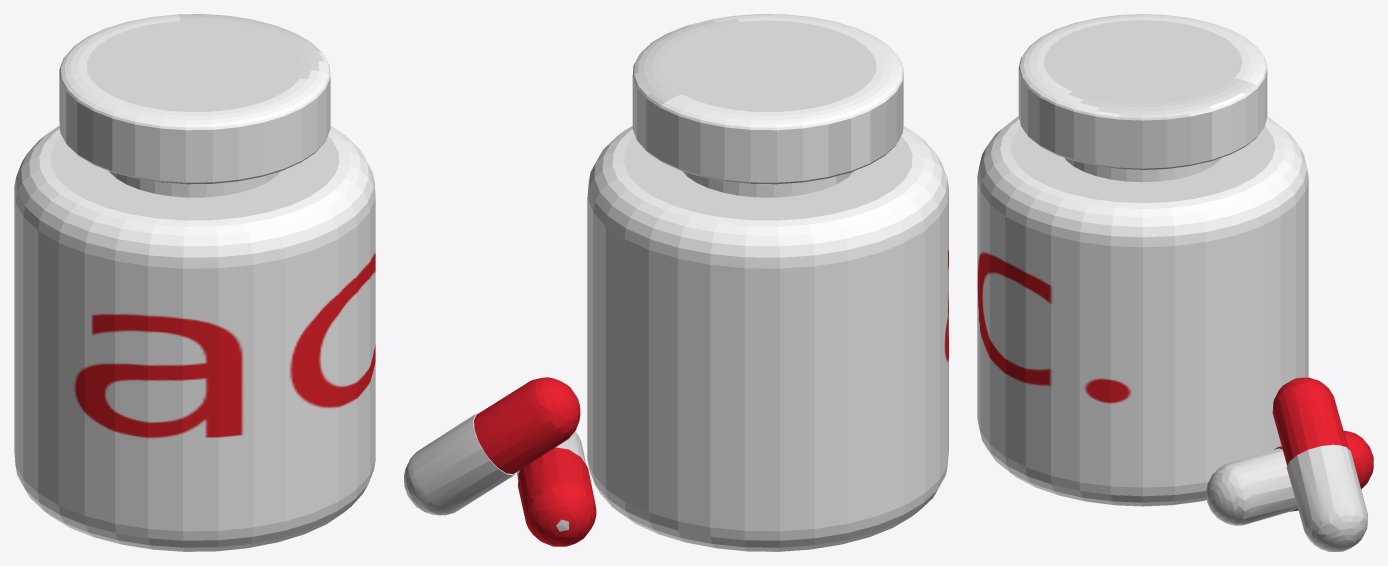
Rendered from Pills_draft_v2.fbx.
The picture shows the model from 3 angles, left to right: view 1: azimuth 30°, elevation 25°; view 2: azimuth 150°, elevation 25°; view 3: azimuth 270°, elevation 25°; orthographic projection. The views are drawn at different scales.
Visible parts, largest first — view 1: Pill box; view 2: Pill box, Pill 2, Pill 1; view 3: Pill box, Pill 2, Pill 1.
Boxes of the visible parts, x1=… form: Pill box: x1=14, y1=14, x2=375, y2=551; Pill box: x1=587, y1=14, x2=948, y2=551; Pill 2: x1=404, y1=377, x2=580, y2=515; Pill 1: x1=517, y1=431, x2=596, y2=546; Pill box: x1=977, y1=14, x2=1308, y2=506; Pill 2: x1=1272, y1=377, x2=1368, y2=551; Pill 1: x1=1206, y1=430, x2=1373, y2=525.
Bounding box in the file's own units: 262 × 258 × 239.
